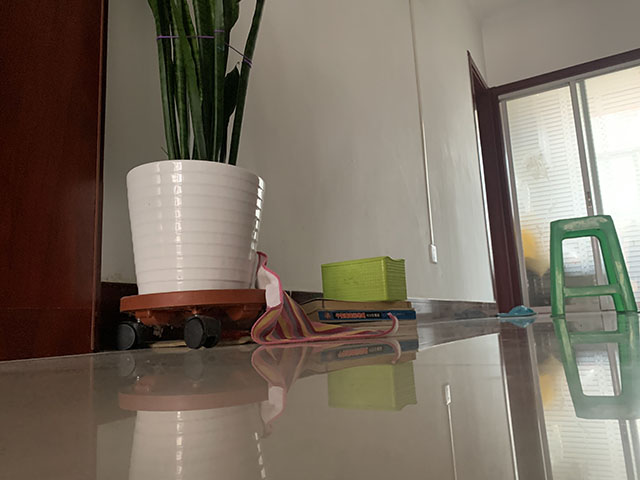book: (300, 297, 417, 328)
slippers: (496, 304, 537, 318)
stool: (549, 214, 640, 320)
